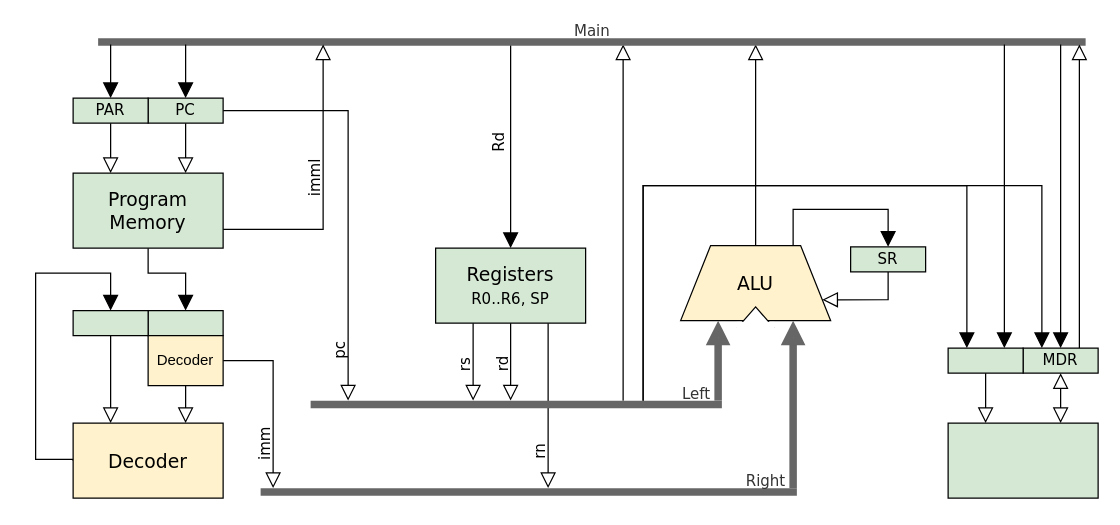
This 1120x525 diagram has some shape labels left out. Here are the shapes that lost their labels. From the top down, the centre of each, then its label:
At [110,322]: "MIR".
At [185,322]: "IR".
At [985,360]: "MAR".
At [1022,460]: "Data Memory".
